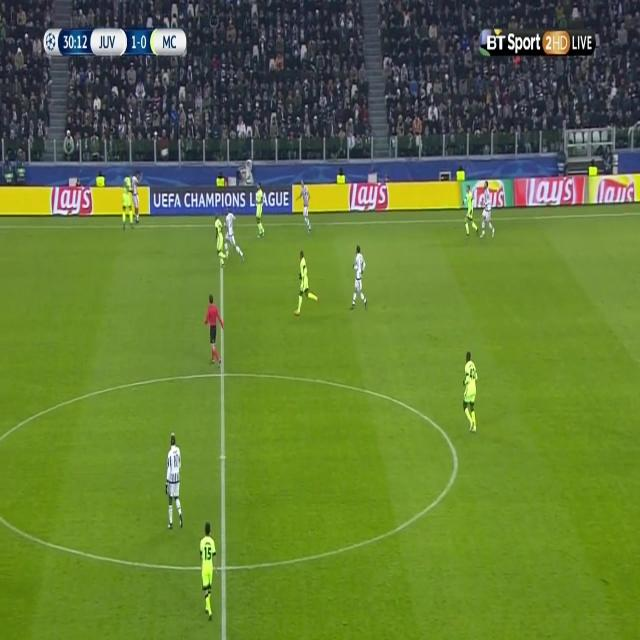Player: (164, 428, 183, 535), (198, 520, 217, 623), (292, 250, 319, 318), (461, 351, 482, 437), (349, 243, 369, 317), (223, 207, 247, 265), (295, 178, 313, 238), (481, 180, 498, 240), (252, 180, 268, 242), (212, 210, 228, 267), (462, 185, 479, 238), (120, 174, 135, 232), (132, 168, 142, 226)
Referee: (204, 291, 224, 368)
